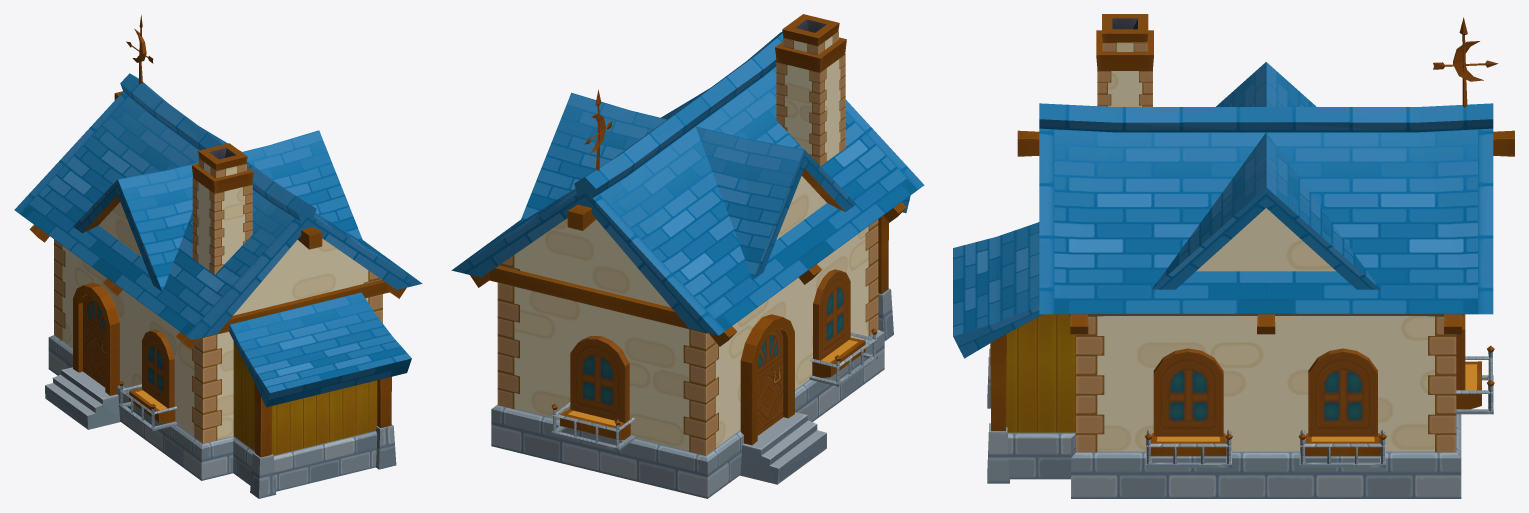
File: BLD0910021.fbx
The picture shows the model from 3 angles, left to right: view 1: azimuth 30°, elevation 25°; view 2: azimuth 150°, elevation 25°; view 3: azimuth 270°, elevation 25°; orthographic projection. The views are drawn at different scales.
Parts seen in each view (by area): view 1: smBLD0910021; view 2: smBLD0910021; view 3: smBLD0910021.
Boxes of the visible parts, <box> form: smBLD0910021: <box>14,15,422,498</box>; smBLD0910021: <box>451,14,924,498</box>; smBLD0910021: <box>953,14,1514,498</box>.
Bounding box in the file's own units: 655 × 861 × 1031.
Materials: 1 (1 with a texture image).
